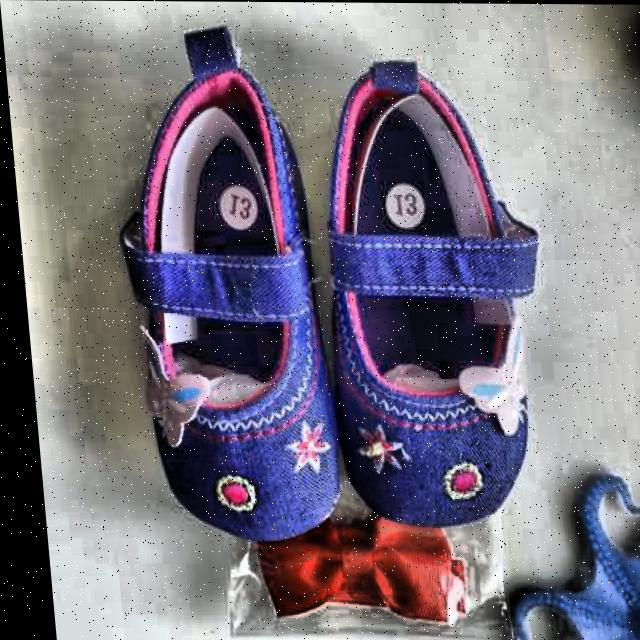shoes: (68, 27, 632, 617)
